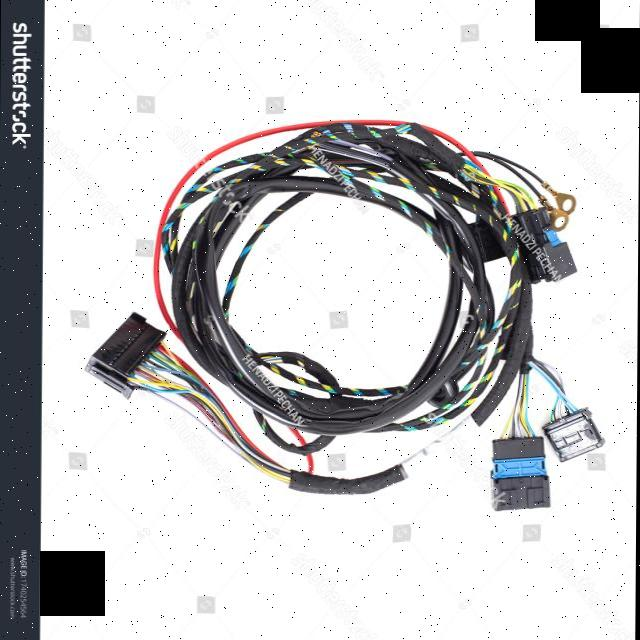connector: (83, 312, 170, 396), (505, 207, 576, 286), (489, 435, 550, 514), (541, 409, 603, 466)
